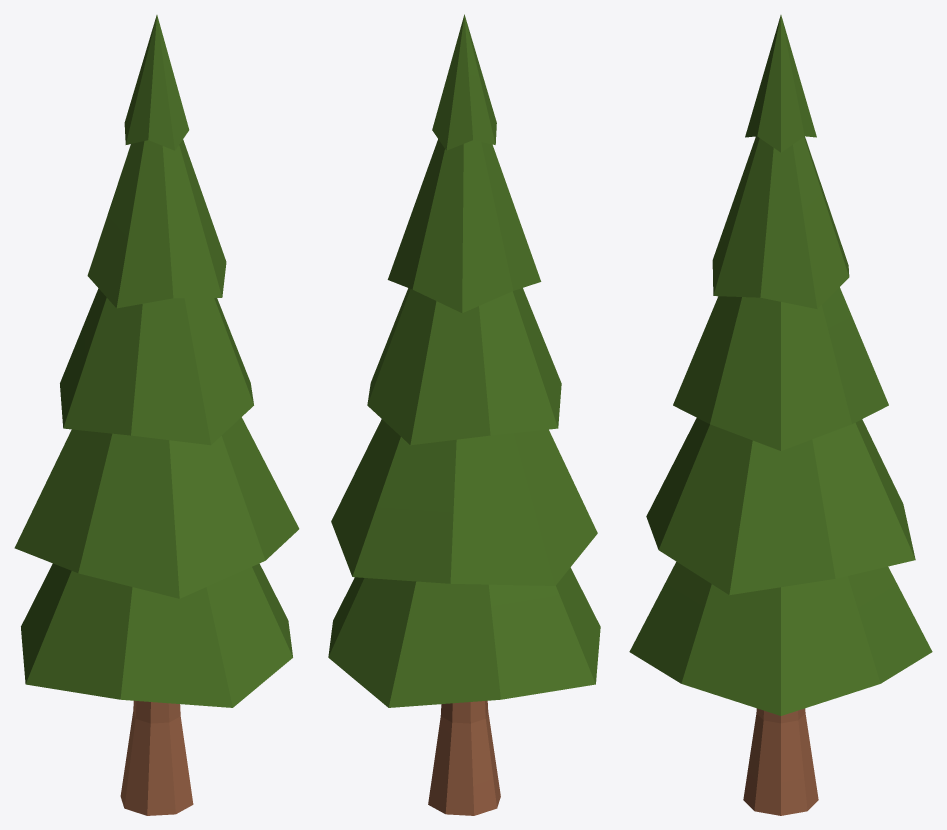
3 renders of one model, left to right at view 1: azimuth 30°, elevation 25°; view 2: azimuth 150°, elevation 25°; view 3: azimuth 270°, elevation 25°, orthographic.
Parts seen in each view (by area): view 1: Lowpoly_Pine_01_Green; view 2: Lowpoly_Pine_01_Green; view 3: Lowpoly_Pine_01_Green.
Part boxes in pixels (left/top/right/bottom): Lowpoly_Pine_01_Green: left=14, top=15, right=299, bottom=815; Lowpoly_Pine_01_Green: left=328, top=14, right=600, bottom=815; Lowpoly_Pine_01_Green: left=629, top=15, right=932, bottom=815.
Bounding box in the file's own units: 1.68 × 4.81 × 1.68.
2 materials, 2 textured.
